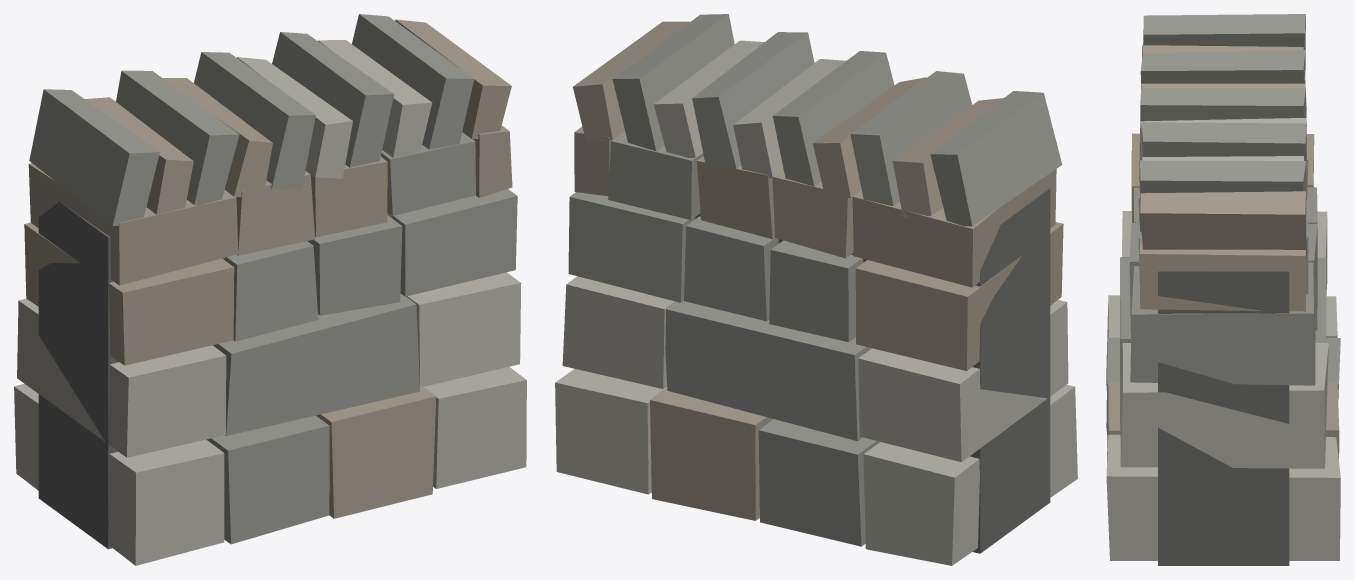
Rendered from wall_dry.glb.
3 renders of one model, left to right at view 1: azimuth 30°, elevation 25°; view 2: azimuth 150°, elevation 25°; view 3: azimuth 270°, elevation 25°, orthographic. The views are drawn at different scales.
Visible parts, largest first — view 1: wall_dry; view 2: wall_dry; view 3: wall_dry.
Boxes of the visible parts, <box> form: wall_dry: <box>14,14,526,565</box>; wall_dry: <box>555,14,1077,565</box>; wall_dry: <box>1106,14,1340,565</box>.
Bounding box in the file's own units: 1.01 × 0.9686 × 0.5465.
